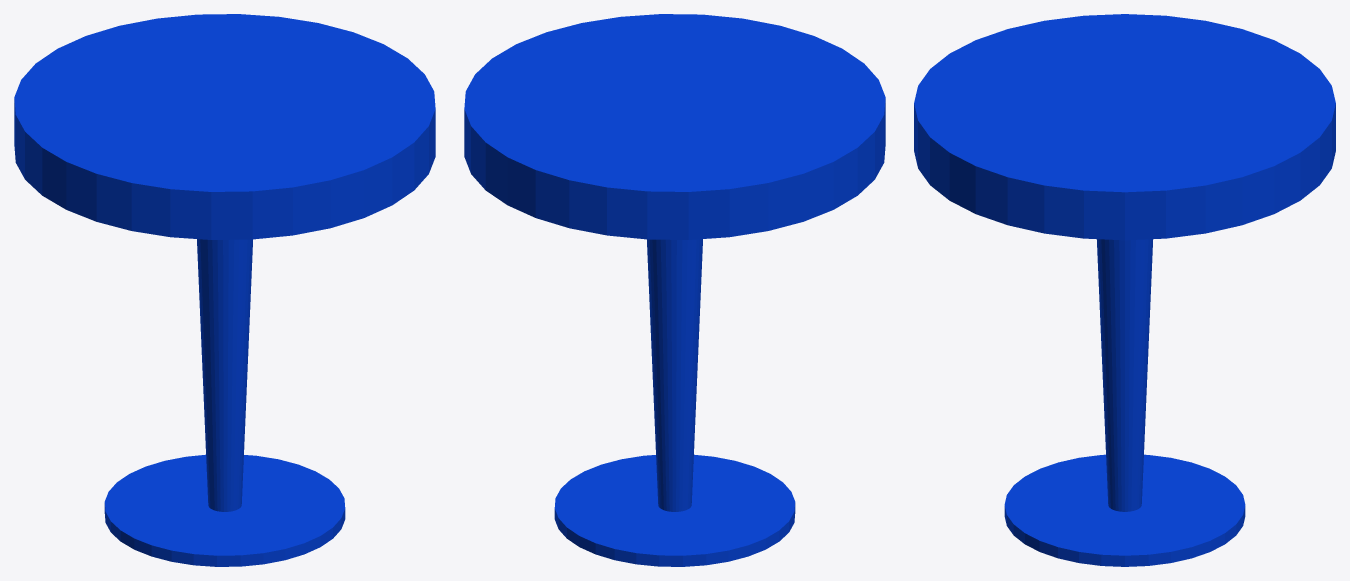
The model's file is RoundTable.fbx.
The picture shows the model from 3 angles, left to right: view 1: azimuth 30°, elevation 25°; view 2: azimuth 150°, elevation 25°; view 3: azimuth 270°, elevation 25°; orthographic projection.
Parts seen in each view (by area): view 1: Round_Table; view 2: Round_Table; view 3: Round_Table.
Boxes of the visible parts, x1,y1,x2,y2 form: Round_Table: (14,14,435,566); Round_Table: (464,14,885,566); Round_Table: (914,14,1335,566).
Size of the model in its own units: 251 by 271 by 251.
